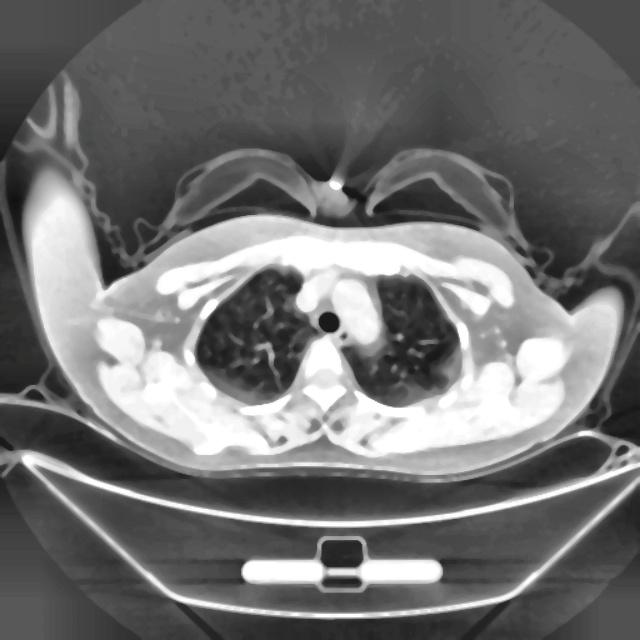covid: (24, 145, 626, 483)
